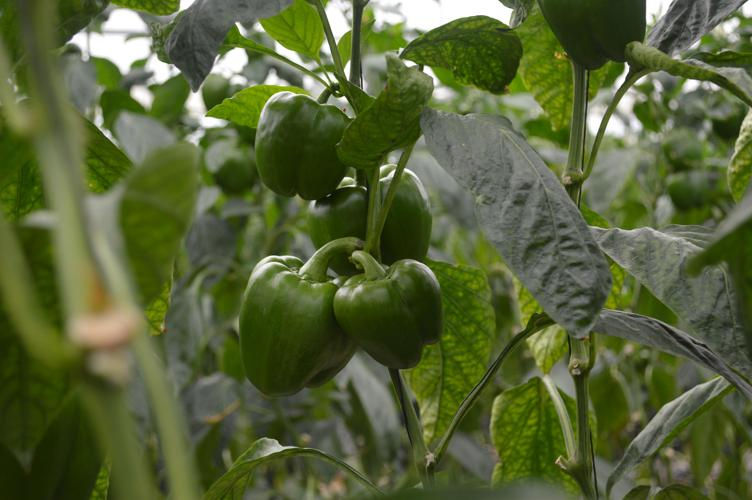BellPepper: (219, 249, 357, 396), (331, 253, 452, 383), (300, 171, 436, 268), (249, 93, 365, 194)
